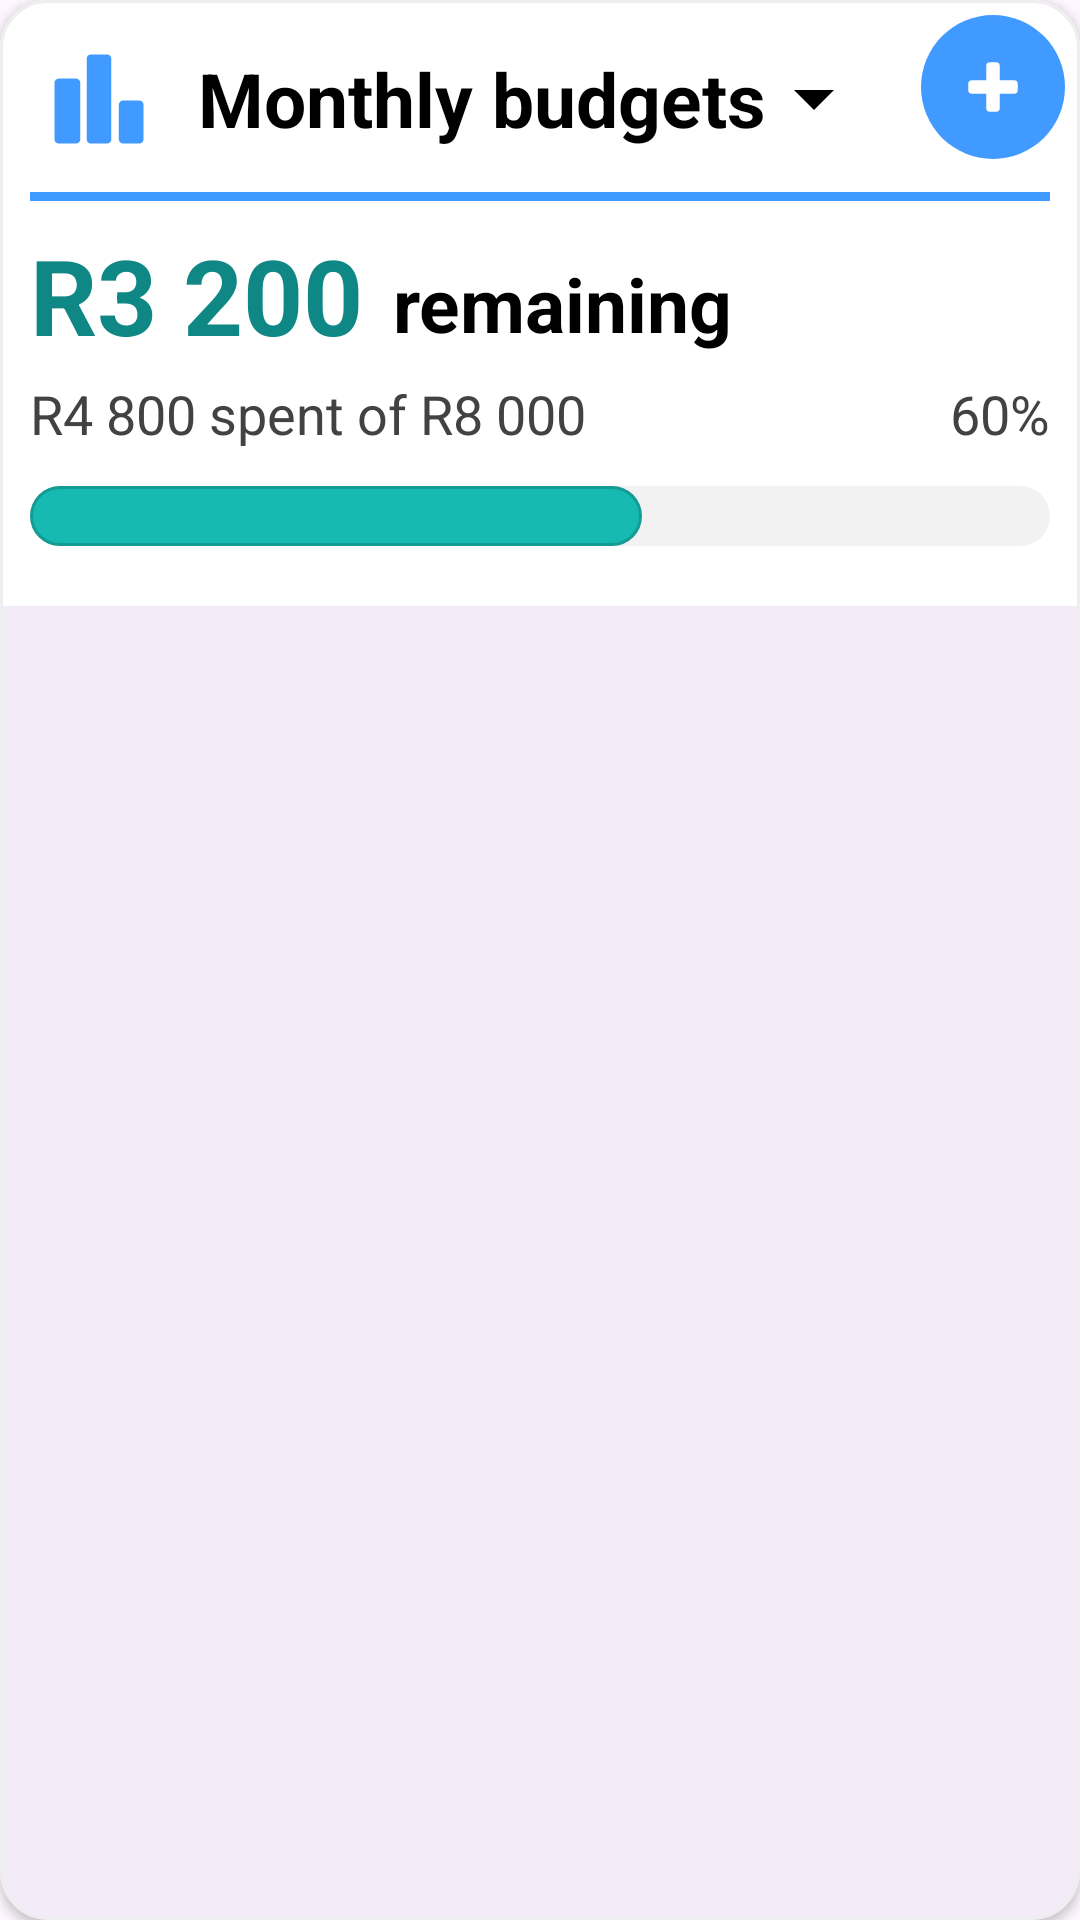

Icons on this 1080 × 1920 Android screen, each with its box as [x1, y1, x2, y2]:
bar chart: [54, 54, 144, 144]
Create new budget: [921, 15, 1065, 159]
